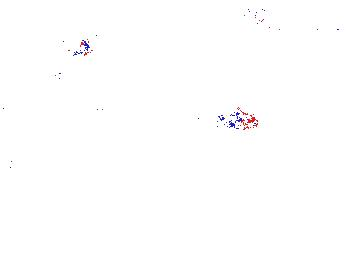X-ray fish: (1, 153, 60, 194)
red belly glassfish: (216, 111, 260, 131), (91, 96, 113, 117)
redtail glassfish: (40, 33, 98, 59)
